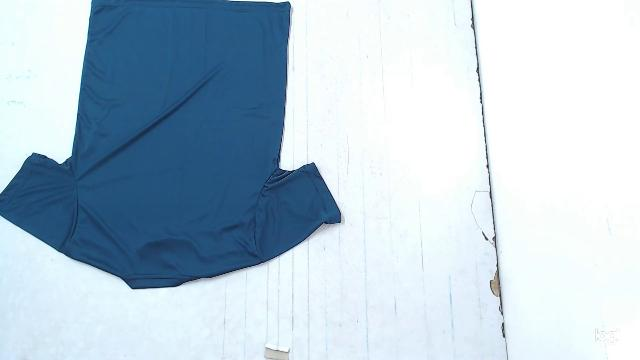new-garment: (0, 0, 341, 288)
